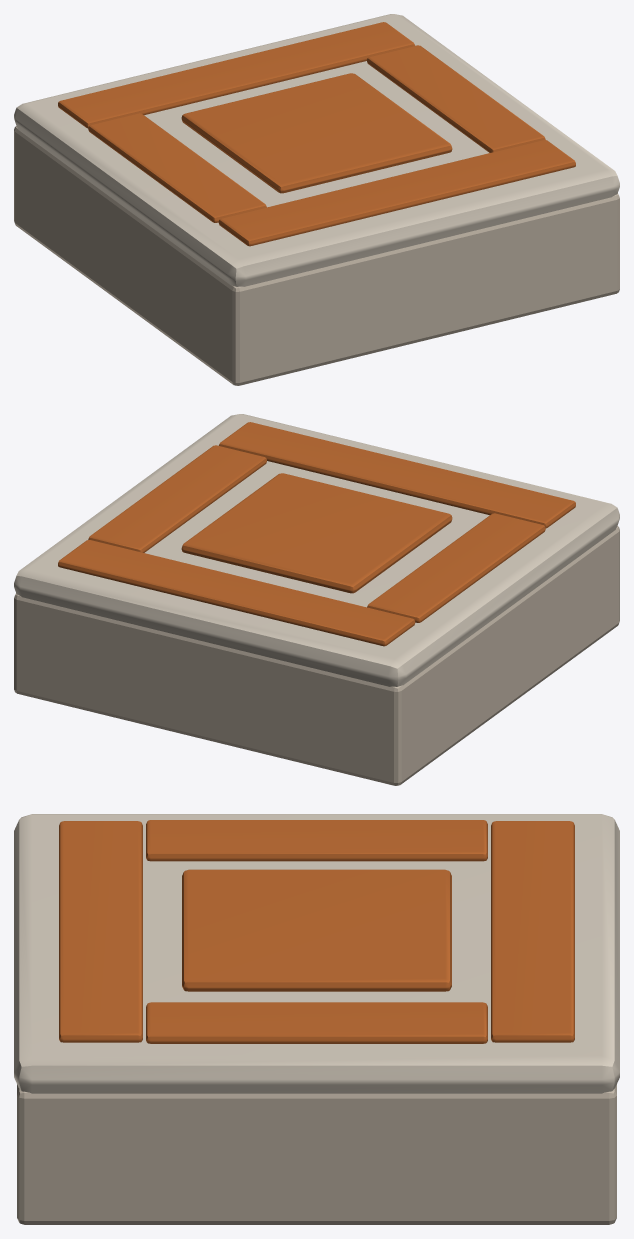
The model's file is tile_courtyard.glb.
3 views of the same model, one above another, from view 1: azimuth 30°, elevation 25°; view 2: azimuth 150°, elevation 25°; view 3: azimuth 270°, elevation 25° (orthographic). The views are drawn at different scales.
Parts seen in each view (by area): view 1: co_body, co_cap, co_center, co_ring2, co_ring, co_ring4, co_ring3; view 2: co_body, co_cap, co_center, co_ring, co_ring2, co_ring4, co_ring3; view 3: co_body, co_cap, co_center, co_ring, co_ring2, co_ring3, co_ring4.
Boxes of the visible parts, left/top/right/bottom form: co_body: left=14, top=126, right=619, bottom=385; co_cap: left=14, top=14, right=619, bottom=286; co_center: left=181, top=73, right=452, bottom=193; co_ring2: left=218, top=140, right=575, bottom=246; co_ring: left=58, top=22, right=414, bottom=128; co_ring4: left=88, top=113, right=266, bottom=222; co_ring3: left=367, top=45, right=545, bottom=152; co_body: left=14, top=526, right=619, bottom=785; co_cap: left=14, top=414, right=619, bottom=686; co_center: left=181, top=473, right=452, bottom=593; co_ring: left=58, top=540, right=415, bottom=646; co_ring2: left=219, top=422, right=575, bottom=528; co_ring4: left=367, top=513, right=545, bottom=622; co_ring3: left=88, top=445, right=266, bottom=552; co_body: left=17, top=1084, right=616, bottom=1224; co_cap: left=14, top=814, right=619, bottom=1093; co_center: left=182, top=869, right=451, bottom=991; co_ring: left=491, top=821, right=574, bottom=1042; co_ring2: left=59, top=821, right=142, bottom=1042; co_ring3: left=146, top=1002, right=487, bottom=1043; co_ring4: left=146, top=820, right=487, bottom=861.
Size of the model in its own units: 2.02 by 0.65 by 2.02.
